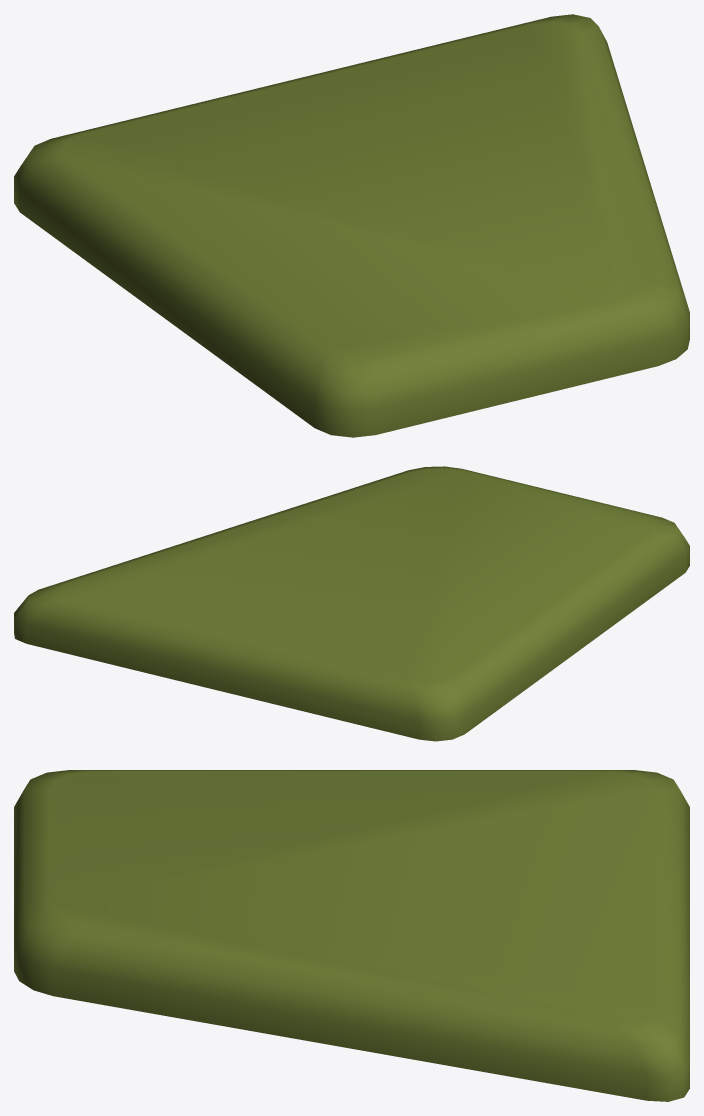
File: Floor (grass in front of the house 1).fbx
3 views of the same model, one above another, from view 1: azimuth 30°, elevation 25°; view 2: azimuth 150°, elevation 25°; view 3: azimuth 270°, elevation 25° (orthographic). The views are drawn at different scales.
Visible parts, largest first — view 1: Floor (grass in front of the house 1); view 2: Floor (grass in front of the house 1); view 3: Floor (grass in front of the house 1).
Part boxes in pixels (<box>): Floor (grass in front of the house 1): <box>14,14,689,437</box>; Floor (grass in front of the house 1): <box>14,466,689,741</box>; Floor (grass in front of the house 1): <box>14,770,689,1101</box>.
Size of the model in its own units: 4172 by 399 by 4154.
